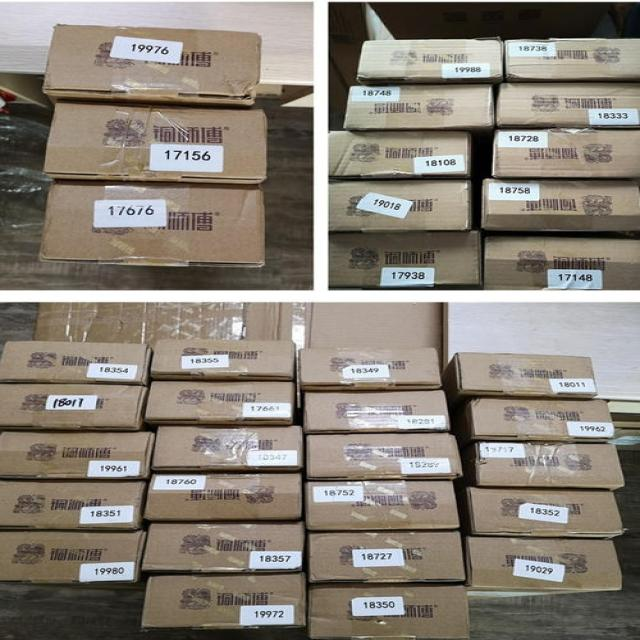box: (32, 302, 443, 372), (38, 181, 266, 269), (44, 100, 268, 186), (41, 24, 262, 106), (0, 530, 150, 602), (140, 571, 308, 631), (463, 537, 623, 600), (329, 230, 484, 289), (370, 2, 609, 40), (308, 584, 472, 639), (142, 520, 305, 574), (343, 83, 497, 139), (444, 353, 596, 409), (481, 179, 640, 232), (466, 486, 622, 540), (484, 236, 640, 289), (448, 398, 616, 447), (458, 442, 625, 491), (308, 531, 465, 583), (306, 480, 461, 532), (145, 471, 303, 521), (0, 431, 155, 481), (329, 179, 474, 232), (490, 128, 640, 179), (306, 432, 463, 480), (0, 480, 148, 530), (142, 379, 294, 427), (151, 425, 305, 472), (0, 383, 150, 431), (356, 37, 504, 85), (329, 131, 471, 179), (497, 82, 640, 129), (305, 390, 451, 435), (0, 341, 152, 384), (300, 349, 443, 392), (507, 37, 640, 83), (150, 340, 294, 382)
